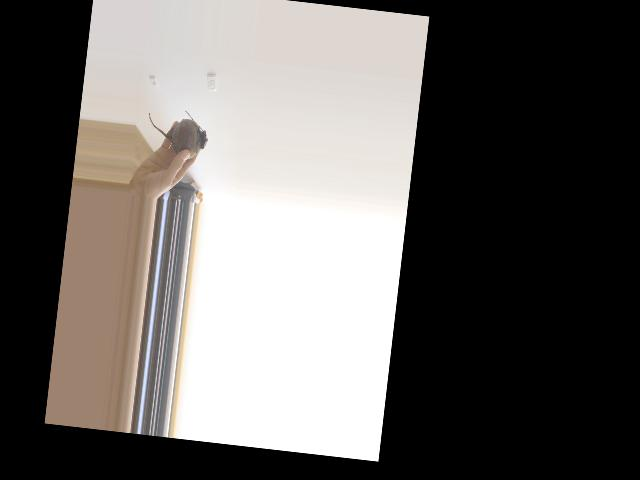beet: (144, 105, 211, 161)
